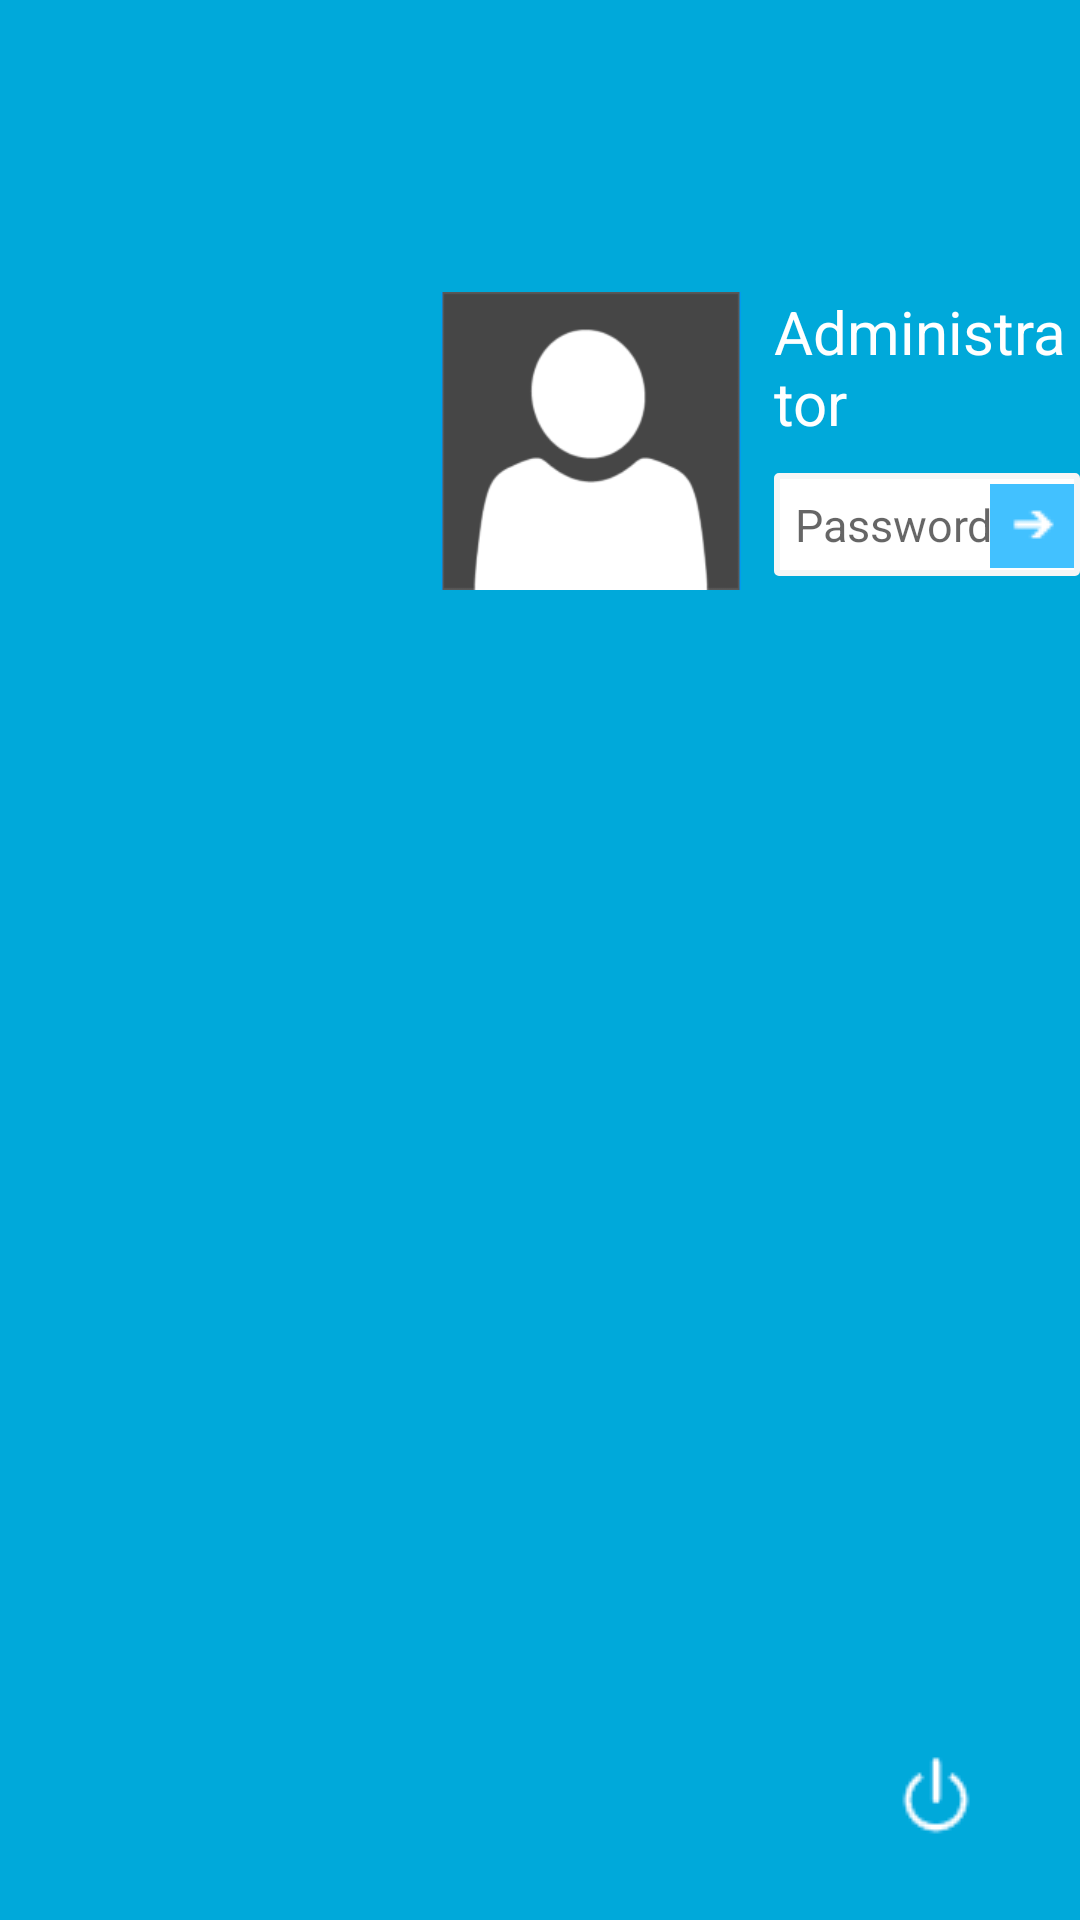

Icons on this 1080 × 1920 Android screen, each with its box as region(x1, y1, x2, y2):
turnoff: region(902, 1757, 970, 1834)
